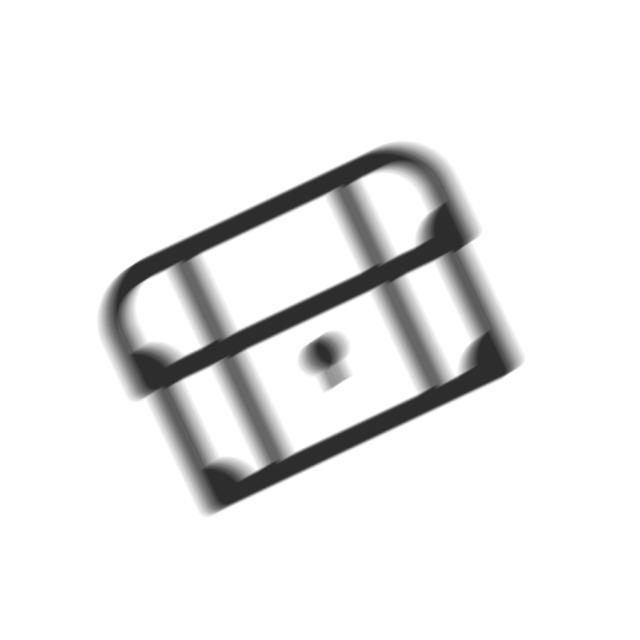treasure_box: (89, 140, 532, 528)
